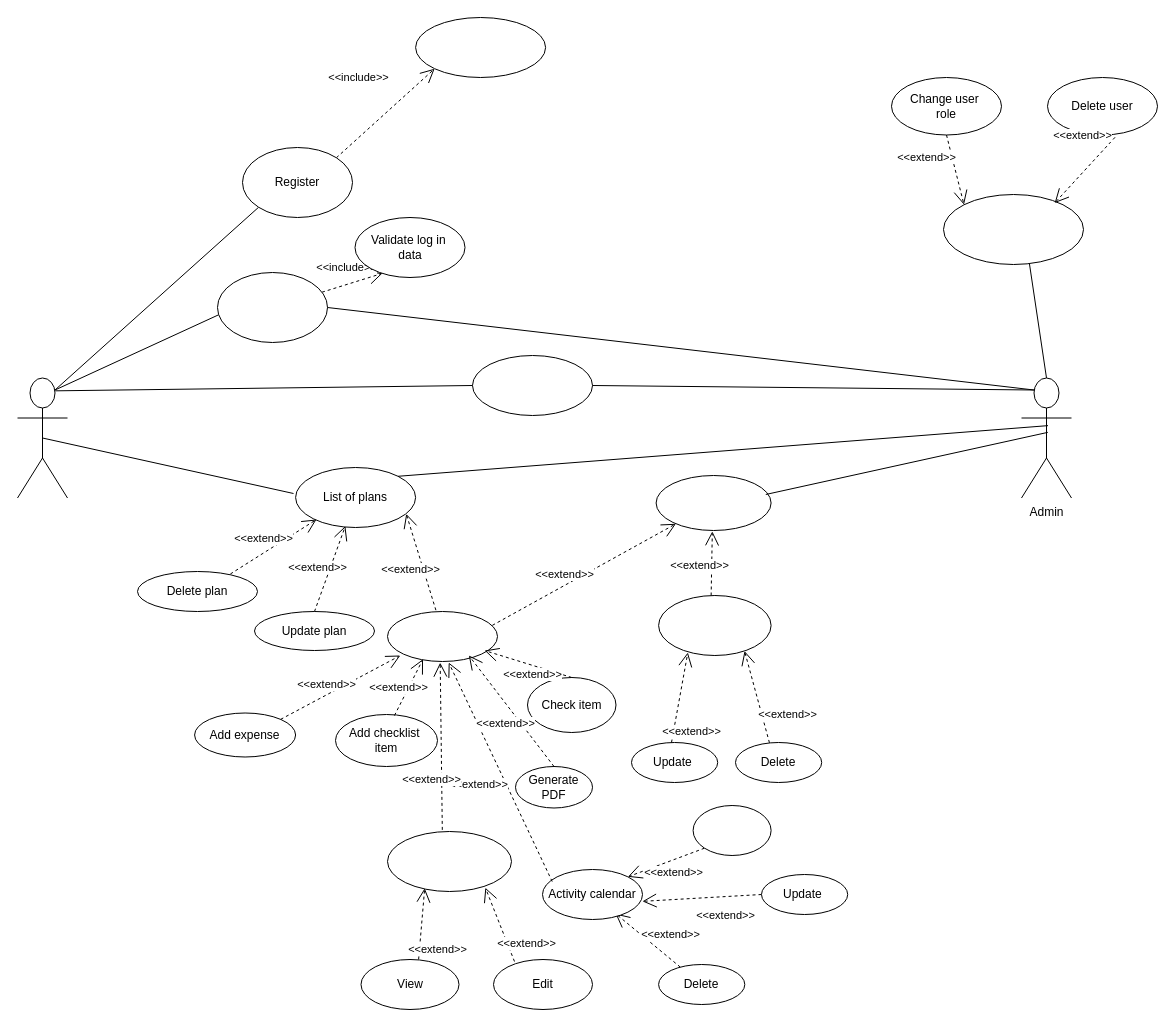
Some shapes in this 1175 by 1027 pixel diagram are drawn without their labels. The centre of each missing label's shape, as x and y in pixels:
"Add activity" goes at point (731, 830).
"Add destination" goes at point (713, 502).
"All destinations" goes at point (714, 625).
"Create travel plan" goes at point (532, 385).
"Log in" goes at point (272, 307).
"See plan details" goes at point (442, 636).
"Share plan with QR Code/link" goes at point (449, 861).
"User" goes at point (42, 437).
"User list" goes at point (1013, 229).
"Validate register data" goes at point (480, 47).
